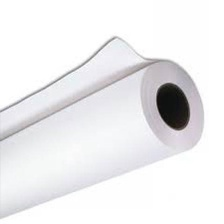tissue: (0, 31, 211, 224)
